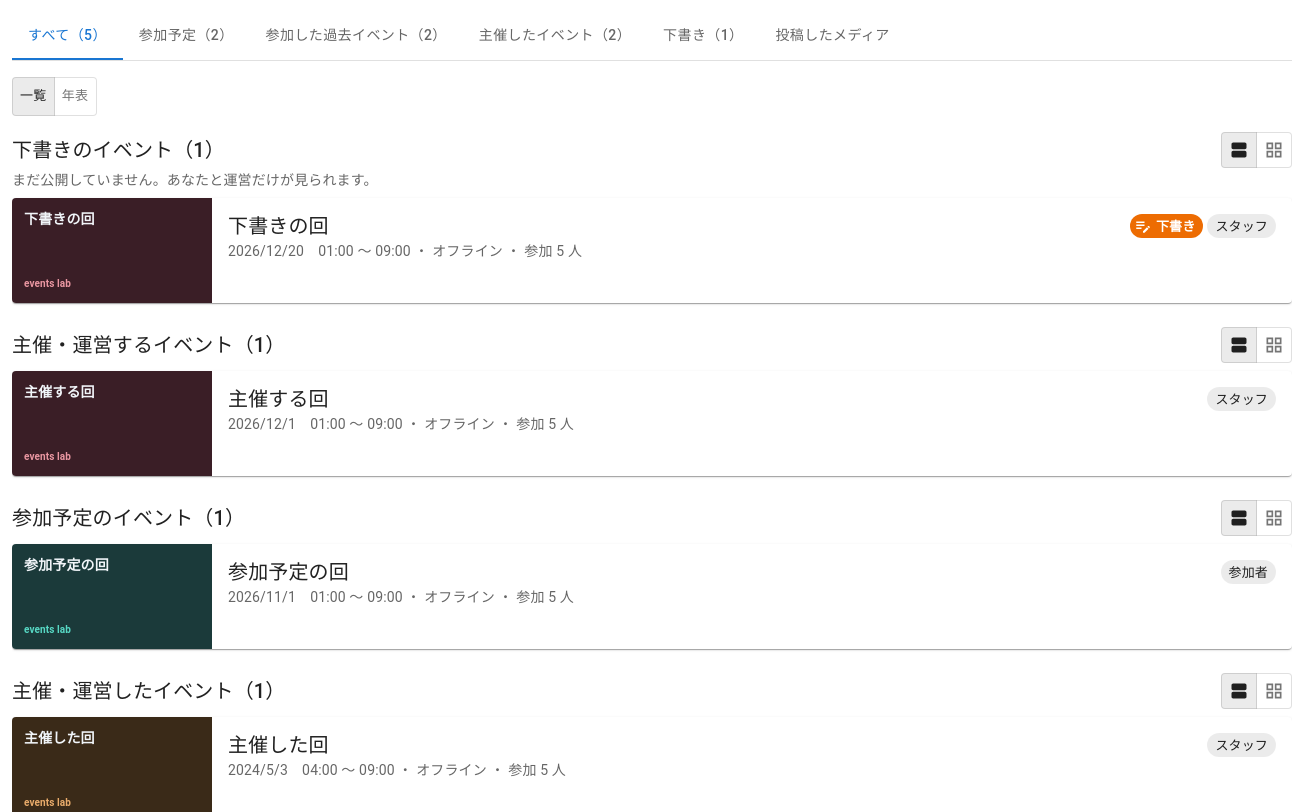
Test: 下書きタブ (#319, #348) › 下書きは他のタブに混ざらない（主催予定でも主催タブに出ない）
Click the tab "主催したイベント（2）".
click(555, 36)  # box [463,12,647,60]
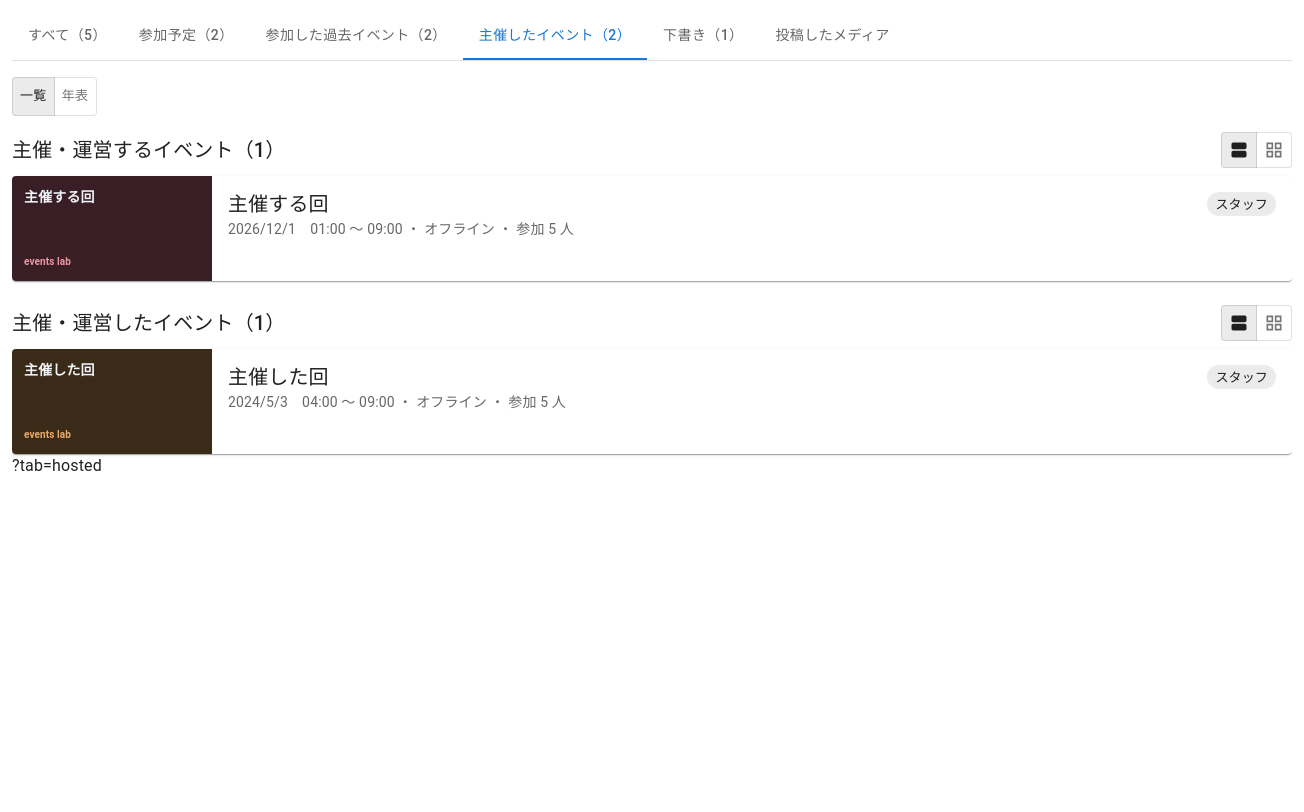
Expected: the link "下書きの回" is gone
